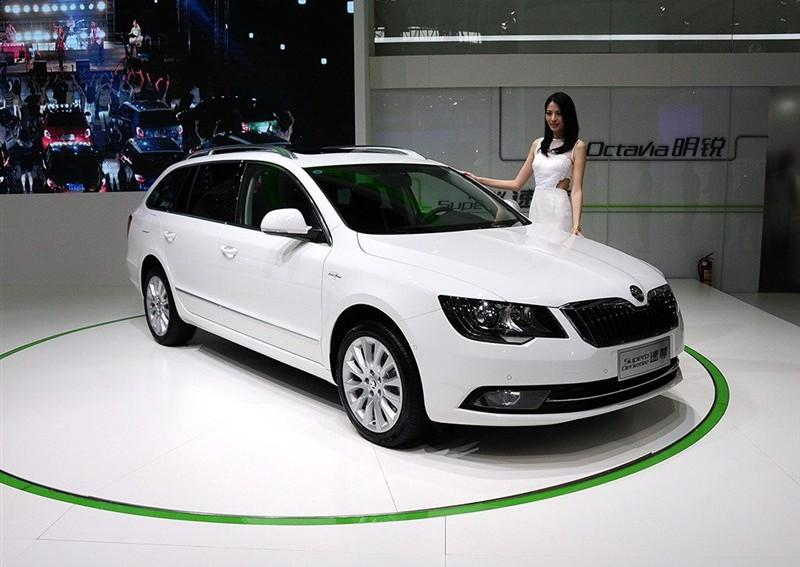Wagon: (124, 141, 685, 447)
